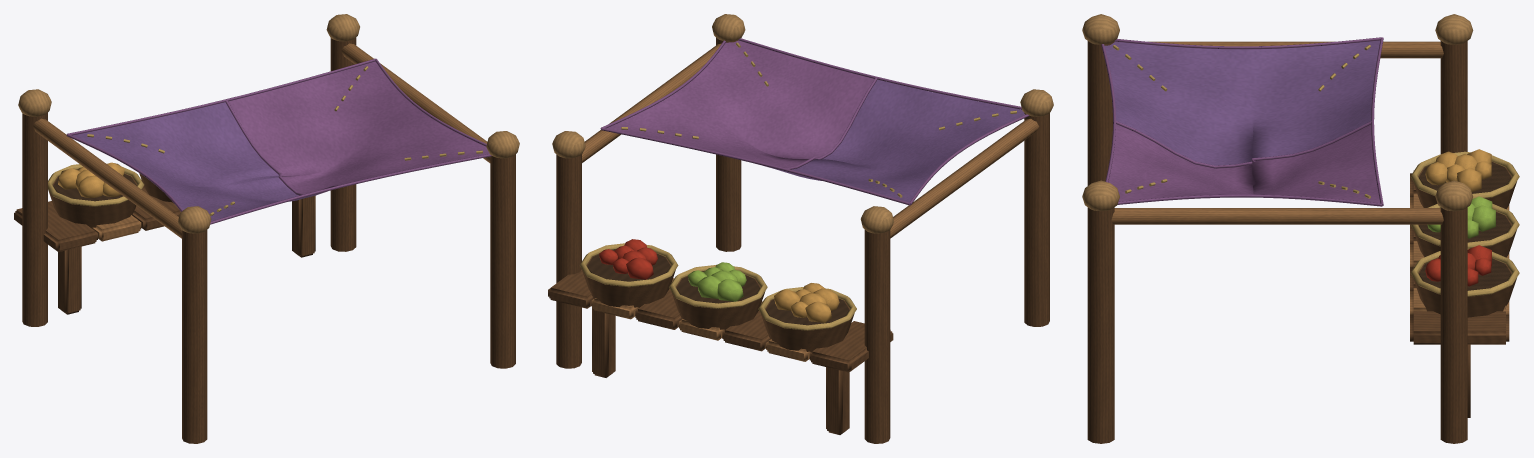
The model's file is market-stall-1.fbx.
3 views of the same model, side by side, from view 1: azimuth 30°, elevation 25°; view 2: azimuth 150°, elevation 25°; view 3: azimuth 270°, elevation 25° (orthographic). The views are drawn at different scales.
Visible parts, largest first — view 1: market-stall-1__Geometry; view 2: market-stall-1__Geometry; view 3: market-stall-1__Geometry.
Boxes of the visible parts, <box> form: market-stall-1__Geometry: <box>14,14,519,443</box>; market-stall-1__Geometry: <box>548,14,1053,443</box>; market-stall-1__Geometry: <box>1082,14,1519,443</box>.
Size of the model in its own units: 3.17 by 2.08 by 3.22.
